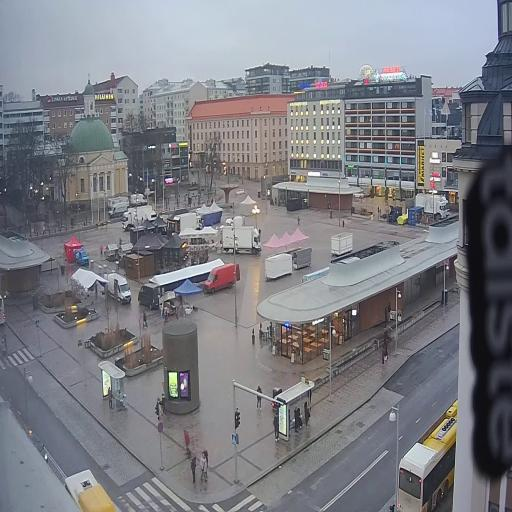bus: (396, 395, 464, 512), (54, 459, 120, 512), (0, 286, 9, 328)
delivery: (219, 224, 264, 261), (200, 260, 244, 293), (104, 269, 133, 308), (120, 202, 156, 230), (137, 277, 162, 316), (414, 193, 446, 223), (172, 206, 204, 236), (106, 201, 130, 223), (70, 243, 91, 268), (224, 211, 247, 231), (128, 188, 150, 206)
